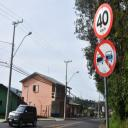NoUltrapassar: (93, 41, 118, 79)
speed_limit_40: (94, 2, 113, 40)
